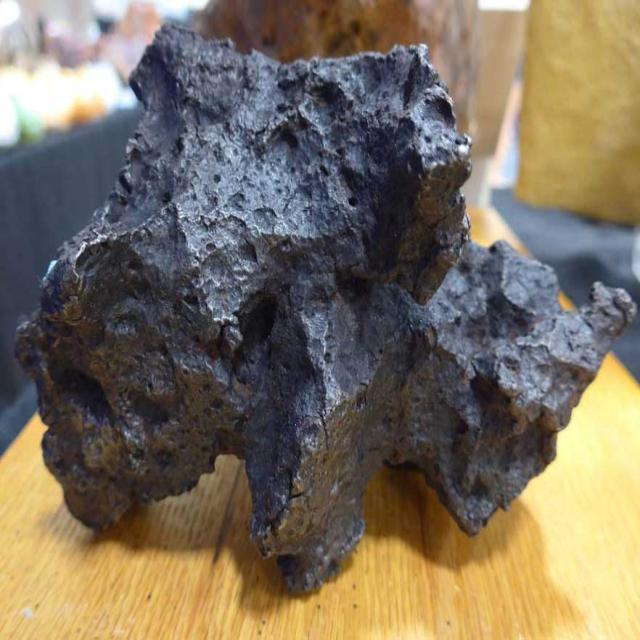Pecahan Agregat: (22, 16, 628, 601)
